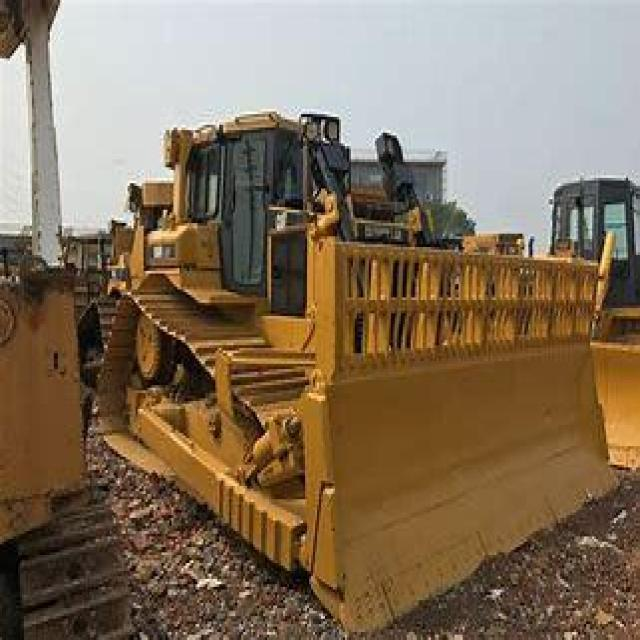buldozerpayloadergrader: (80, 90, 622, 624)
